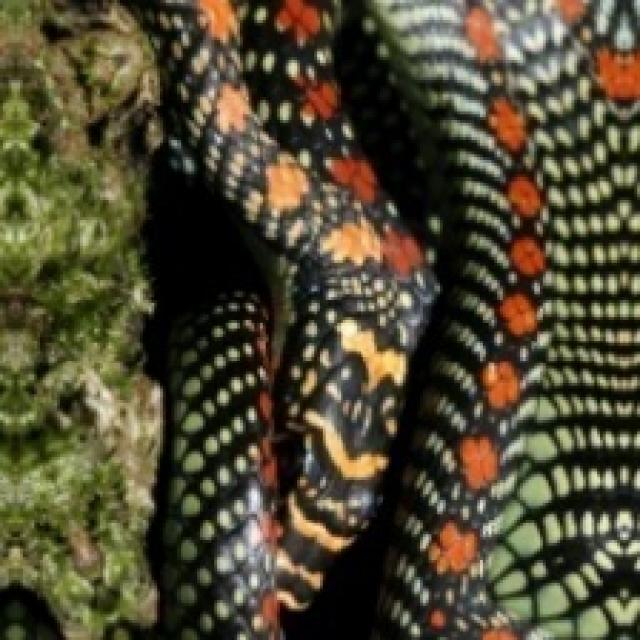paradise tree snake: (137, 0, 637, 637), (363, 151, 443, 466)
